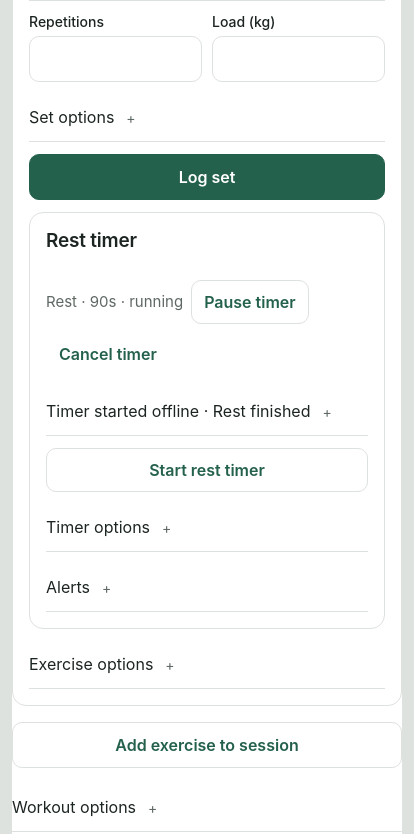
Test: timer display without timer mutations › restores an offline timer, elapsed=true, with discoverable retained status
(page scrolled)
Expected: the text "Rest · 90s · running" is shown, [46, 291, 183, 313]
What coordinates should you click on to do the following:
click the button "Timer started offline · Rest finished +"
I would click on:
 (207, 412)
Its box is [46, 388, 368, 436].
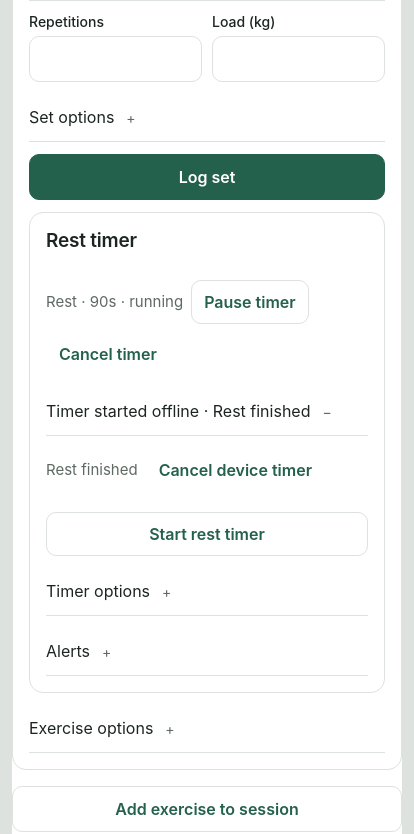
Expected: the button "Cancel device timer" is shown, [146, 448, 325, 492]
